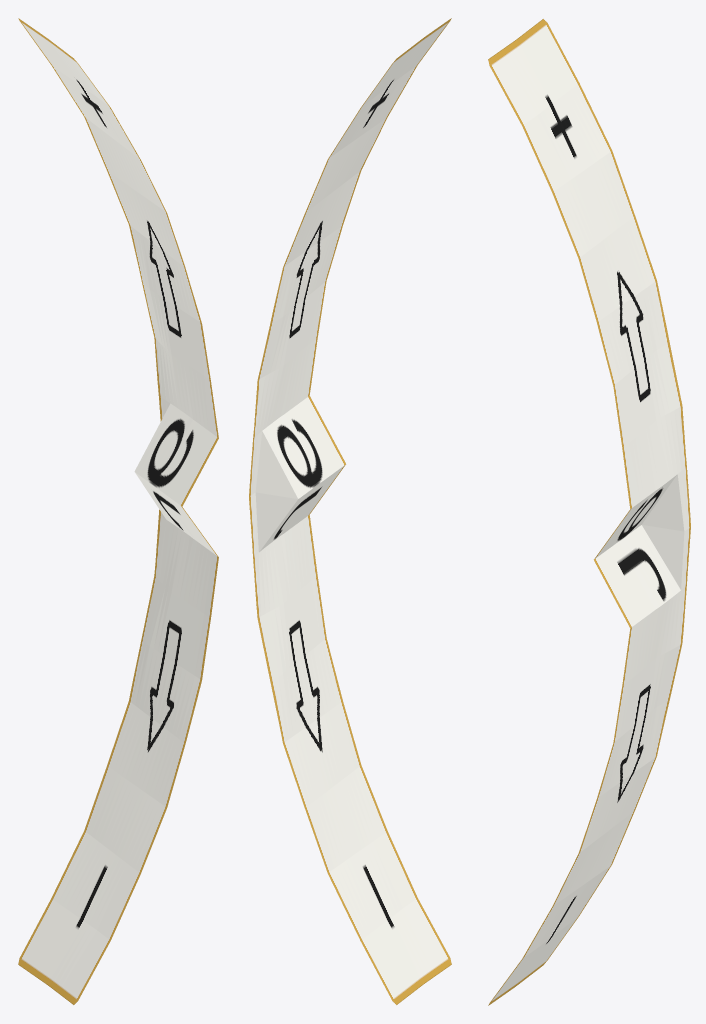
The model's file is J6_sticker_active.glb.
3 views of the same model, side by side, from view 1: azimuth 30°, elevation 25°; view 2: azimuth 150°, elevation 25°; view 3: azimuth 330°, elevation 25° (orthographic).
Size of the model in its own units: 0.00569 by 0.035 by 0.004.
1 material, 1 textured.
